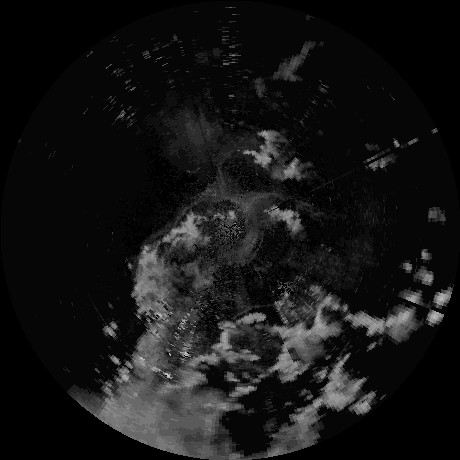frontgust: (152, 197, 212, 238), (246, 192, 325, 215)
